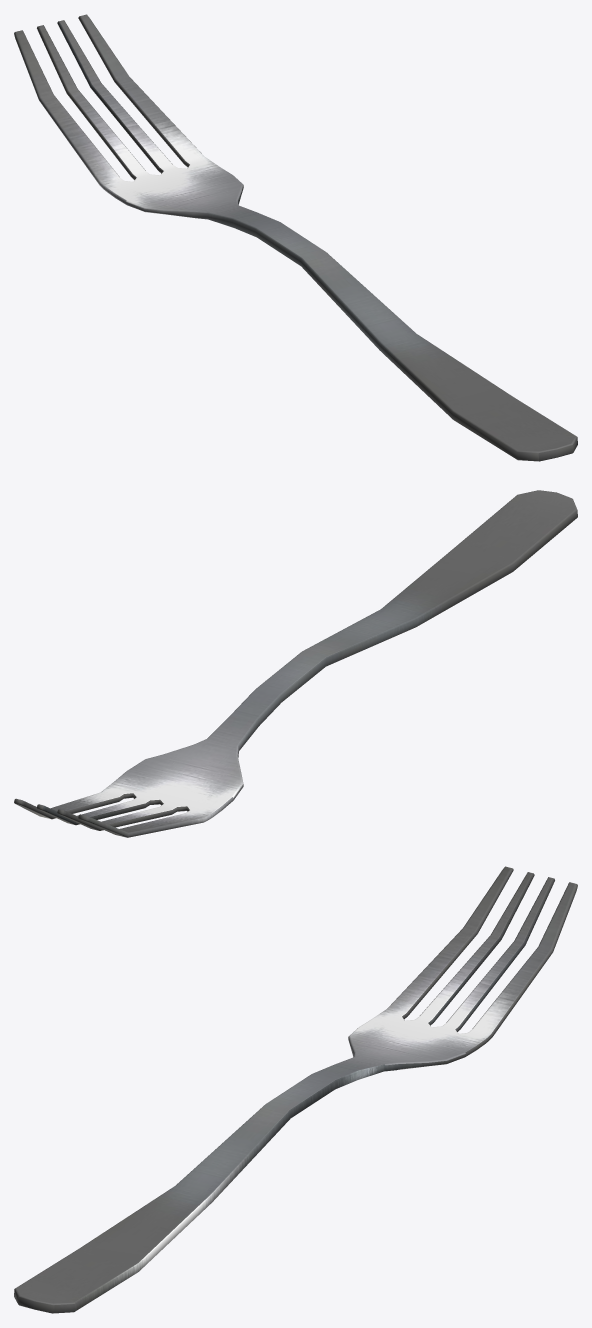
File: Fork.fbx
The picture shows the model from 3 angles, top to bottom: view 1: azimuth 30°, elevation 25°; view 2: azimuth 150°, elevation 25°; view 3: azimuth 330°, elevation 25°; orthographic projection.
Visible parts, largest first — view 1: Fork; view 2: Fork; view 3: Fork.
Part boxes in pixels (x1,y1,x2,y2): Fork: (14,14,577,461); Fork: (14,490,577,837); Fork: (14,866,577,1313).
Size of the model in its own units: 246 by 168 by 2008.
Materials: 1 (1 with a texture image).
